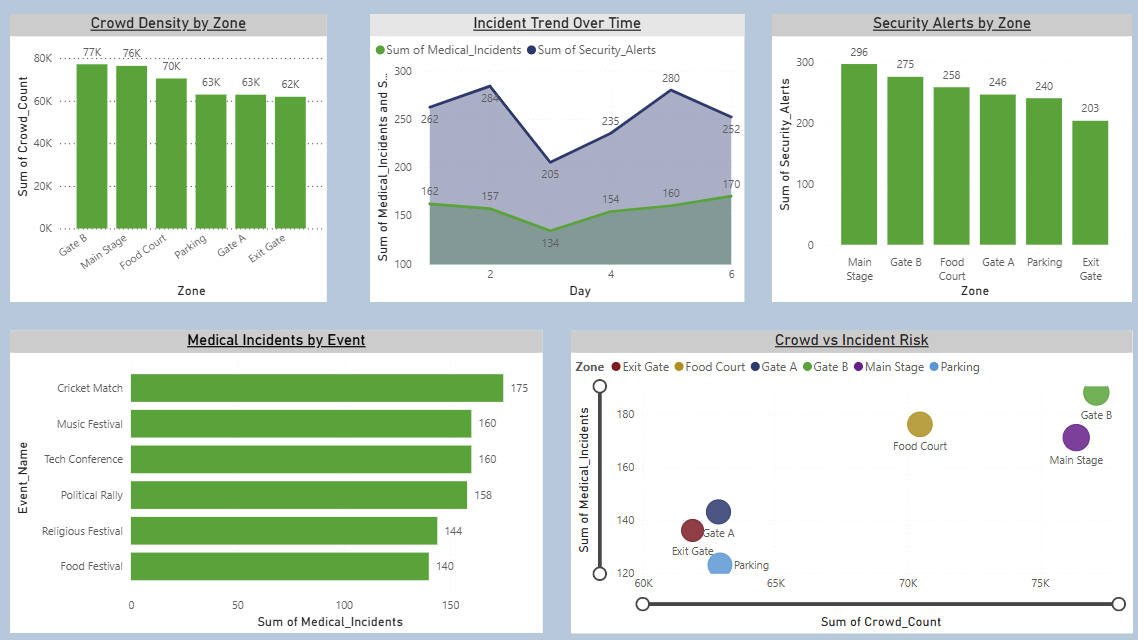

The dashboard page shown, as its layout file describes it:
{"tool":"powerbi","page":{"name":"Crowd Risk Analysis","canvas":[1280,720],"ordinal":1},"visuals":[{"type":"clusteredColumnChart","title":"Crowd Density by Zone","fields":{"Category":["Event_Safety_Data.Zone"],"Y":["Sum(Event_Safety_Data.Crowd_Count)"]},"box":[16,16,352,320],"z":0},{"type":"clusteredBarChart","title":"Medical Incidents by Event","fields":{"Category":["Event_Safety_Data.Event_Name"],"Y":["Sum(Event_Safety_Data.Medical_Incidents)"]},"box":[16,368,592,336],"z":1000},{"type":"clusteredColumnChart","title":"Security Alerts by Zone","fields":{"Category":["Event_Safety_Data.Zone"],"Y":["Sum(Event_Safety_Data.Security_Alerts)"]},"box":[864,16,400,320],"z":2000},{"type":"lineChart","title":"Incident Trend Over Time","fields":{"Category":["Event_Safety_Data.Date.Variation.Date Hierarchy.Day"],"Y":["Sum(Event_Safety_Data.Medical_Incidents)","Sum(Event_Safety_Data.Security_Alerts)"]},"box":[416,16,416,320],"z":3000},{"type":"scatterChart","title":"Crowd vs Incident Risk","fields":{"X":["Sum(Event_Safety_Data.Crowd_Count)"],"Y":["Sum(Event_Safety_Data.Medical_Incidents)"],"Size":["Sum(Event_Safety_Data.Security_Alerts)"],"Series":["Event_Safety_Data.Zone"]},"box":[640,368,624,336],"z":4000}]}

Visuals, with their boxes in screenshot pixels (x1, y1, x2, y2), scaled from the page's 1280x720 canvas onto the 1138x640 screenshot:
"Crowd Density by Zone" clusteredColumnChart: BBox(14, 14, 327, 299)
"Medical Incidents by Event" clusteredBarChart: BBox(14, 327, 541, 626)
"Security Alerts by Zone" clusteredColumnChart: BBox(768, 14, 1124, 299)
"Incident Trend Over Time" lineChart: BBox(370, 14, 740, 299)
"Crowd vs Incident Risk" scatterChart: BBox(569, 327, 1124, 626)
